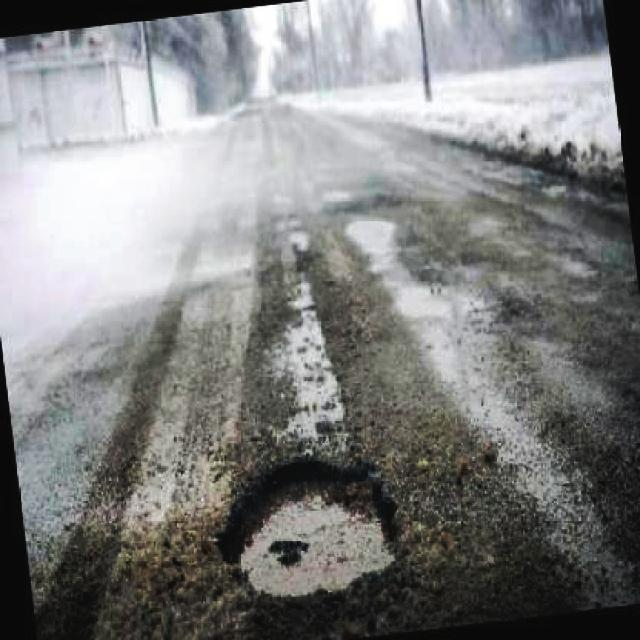pothole: (214, 449, 400, 603)
